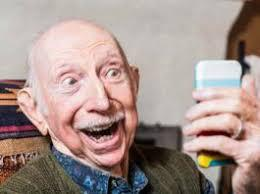0: (54, 44, 133, 169)
Hand: (177, 83, 260, 173)
Smartphone: (196, 62, 241, 165)
